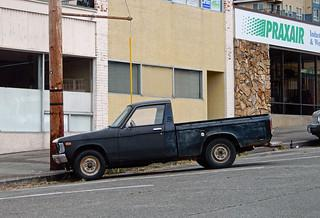quaterpanel-dent: (174, 123, 238, 143)
